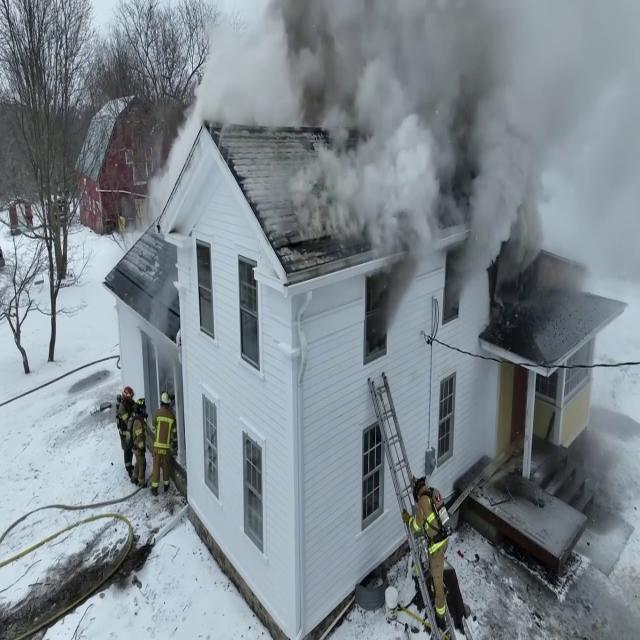Smoke: (278, 0, 613, 283)
